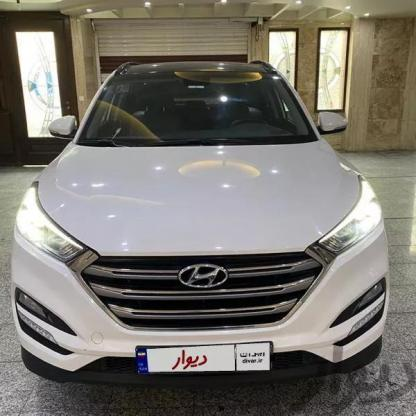Car: (8, 57, 396, 387)
